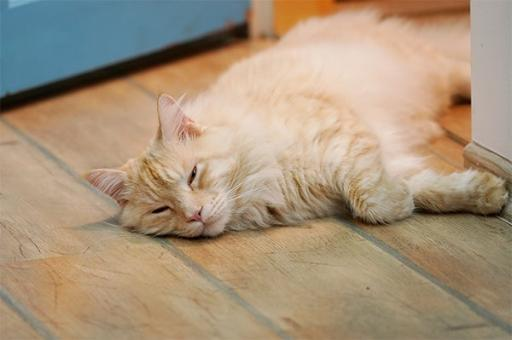cat_sleeping: (84, 9, 509, 237)
